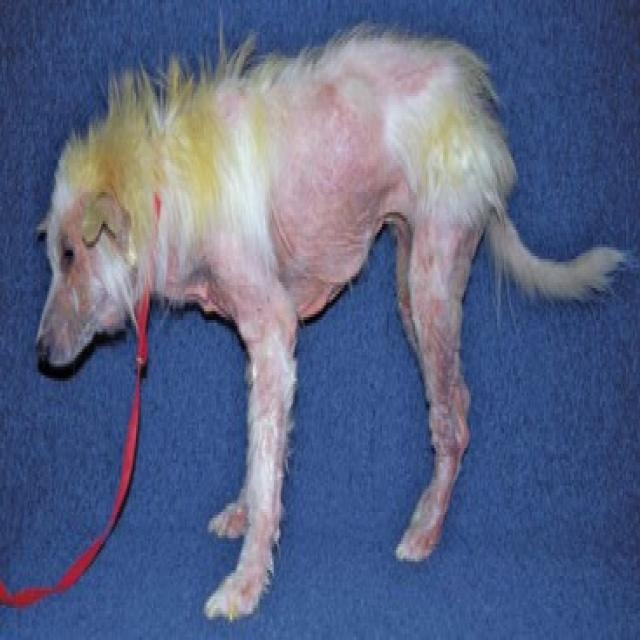nhiem nam (cho): (24, 0, 607, 598)
